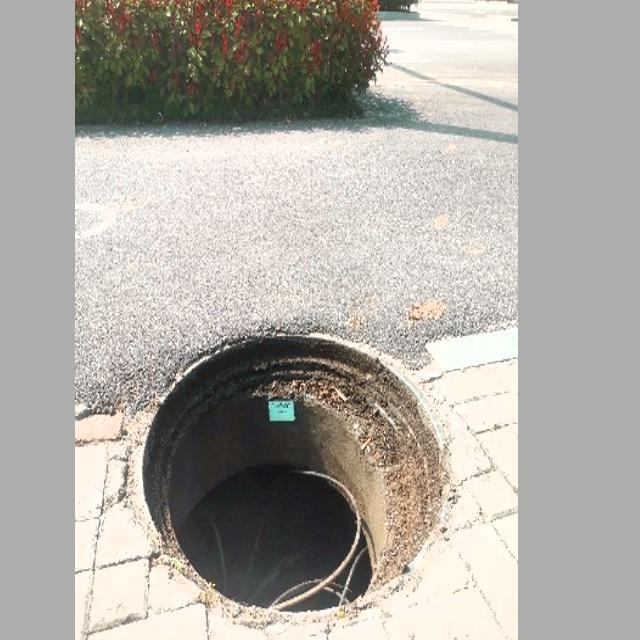lose: (133, 329, 456, 624)
